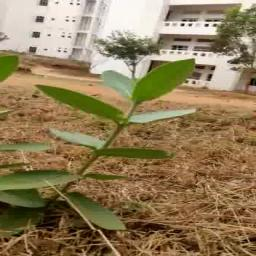CALOTROPIS: (0, 56, 197, 230)
